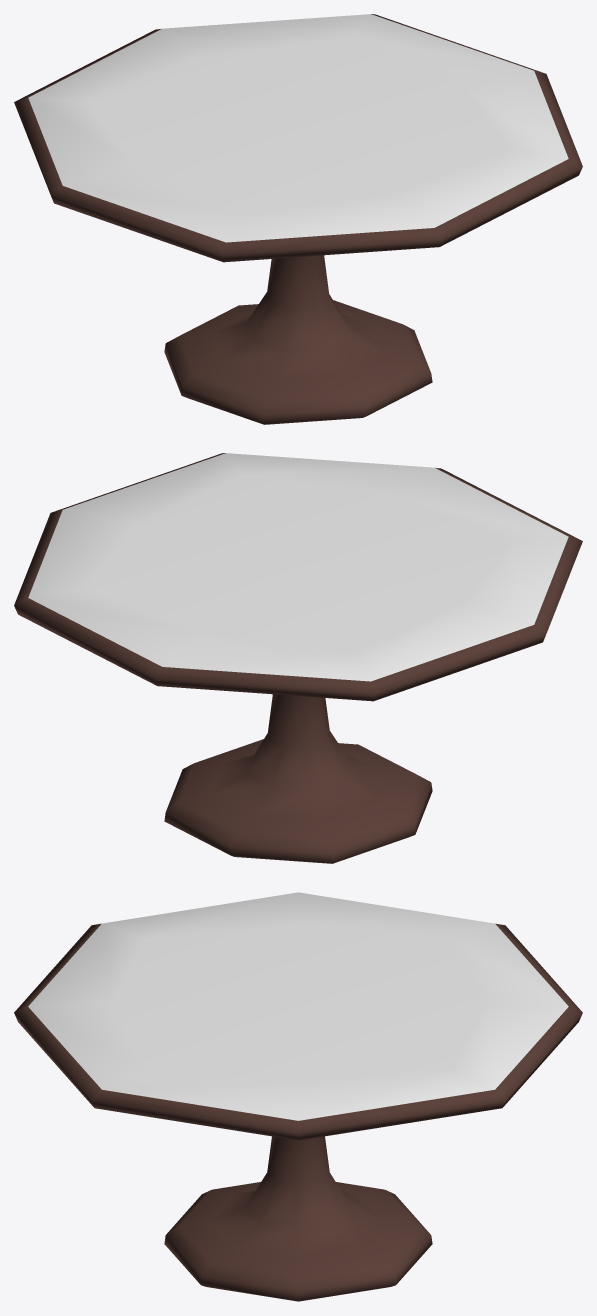
File: Bartable 1.fbx
3 views of the same model, one above another, from view 1: azimuth 30°, elevation 25°; view 2: azimuth 150°, elevation 25°; view 3: azimuth 270°, elevation 25° (orthographic).
Parts seen in each view (by area): view 1: Cube.001; view 2: Cube.001; view 3: Cube.001.
Boxes of the visible parts, left/top/right/bottom form: Cube.001: left=14, top=14, right=582, bottom=424; Cube.001: left=14, top=453, right=582, bottom=863; Cube.001: left=14, top=892, right=582, bottom=1301.
Size of the model in its own units: 344 by 164 by 344.
